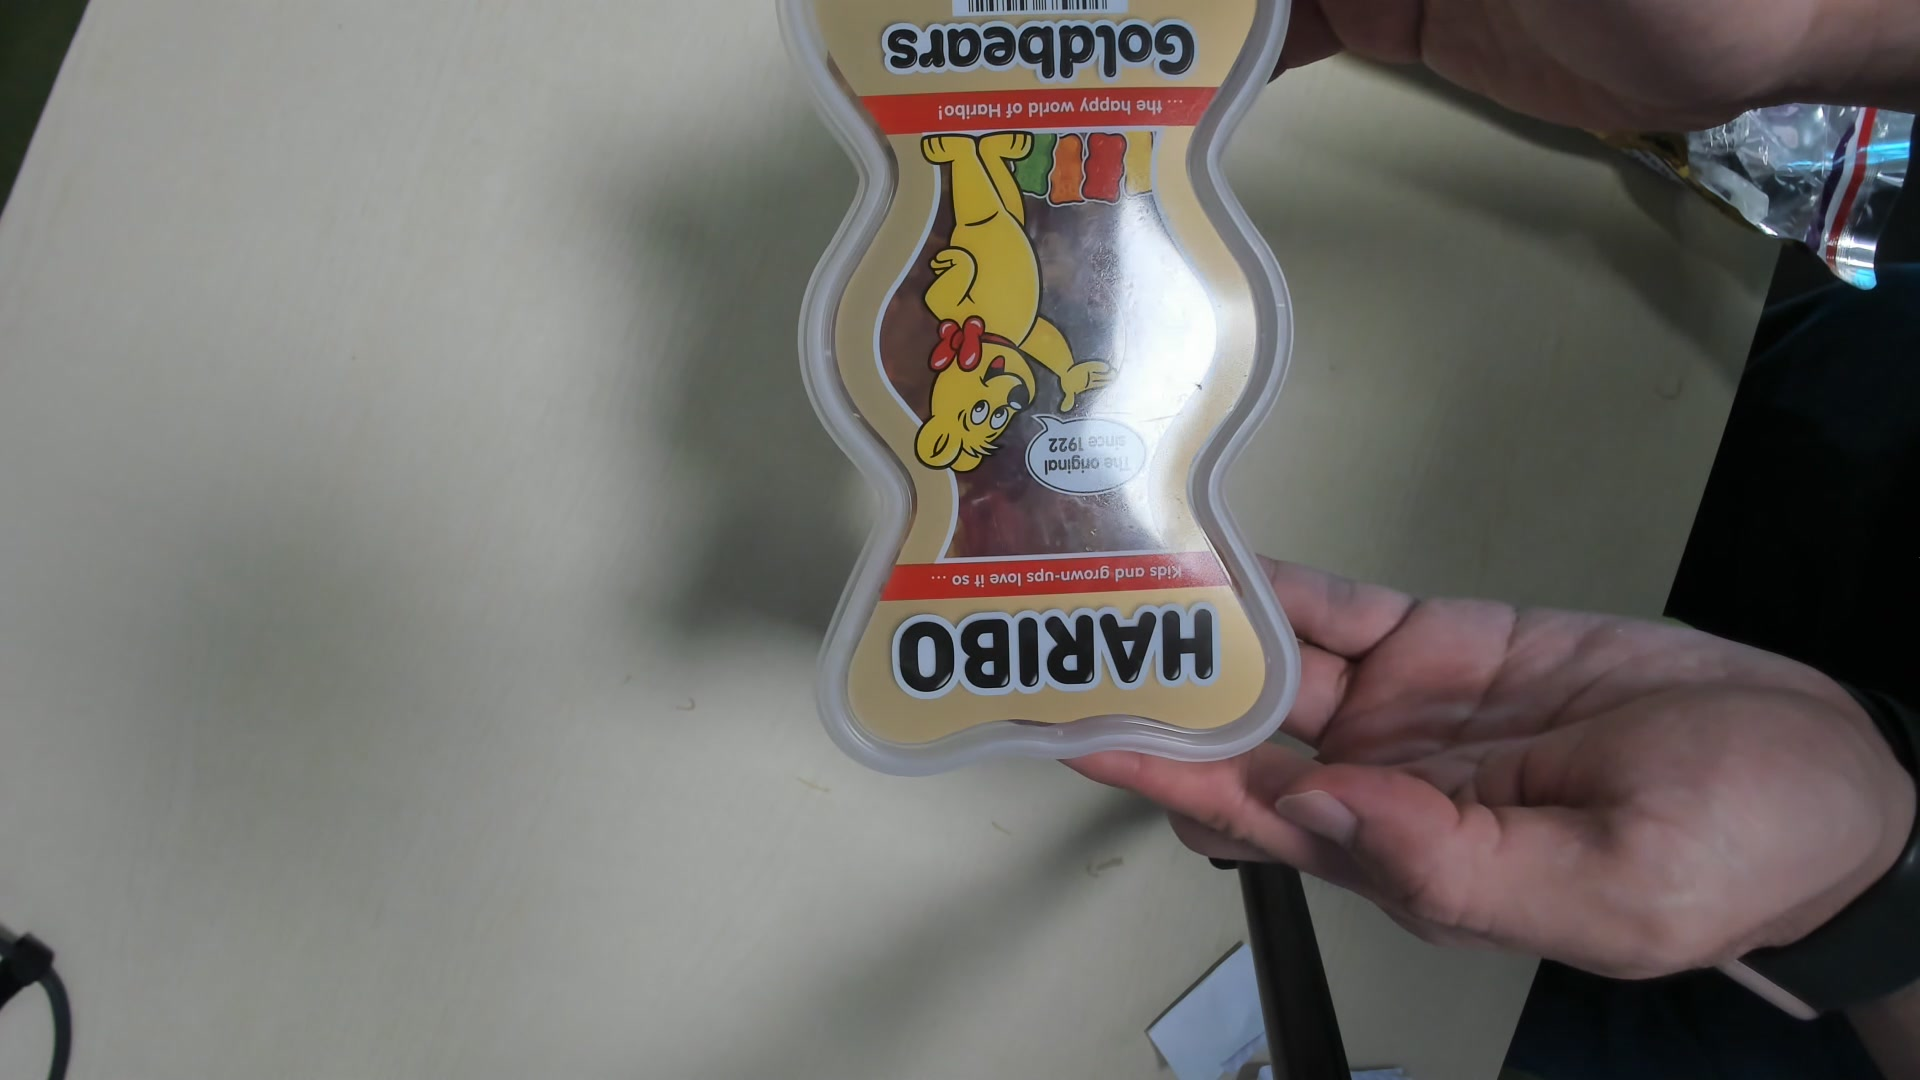SweetsChocolatesOthers_400-499g_NonHalal_Nonhealthy: (761, 8, 1305, 770)
